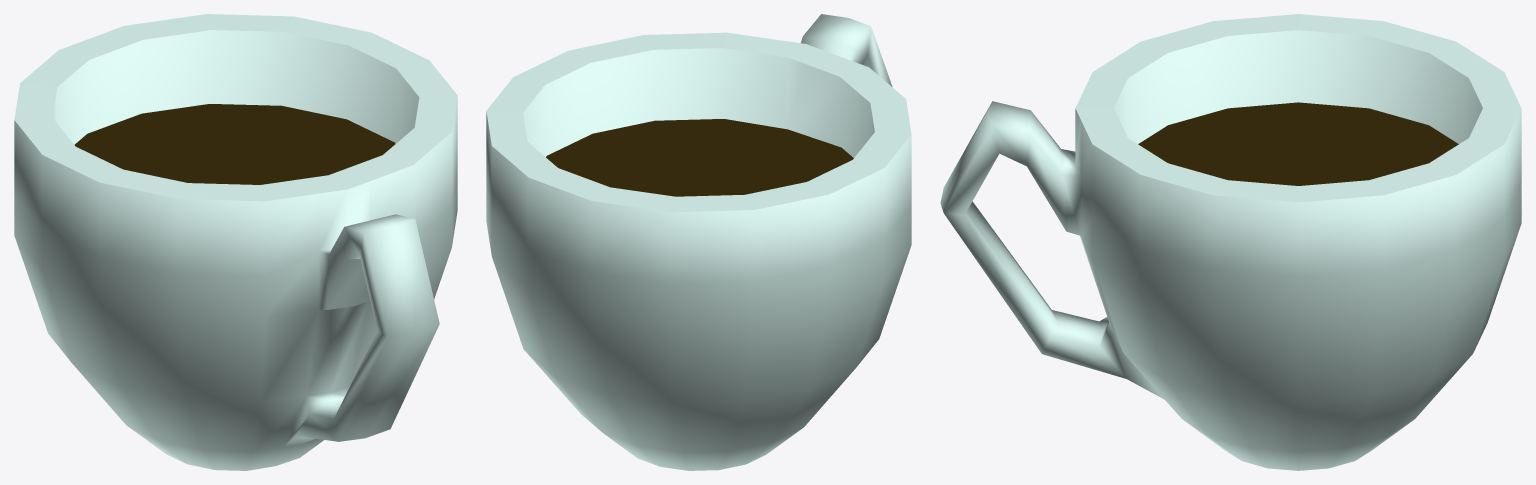
Rendered from cafe.fbx.
3 views of the same model, side by side, from view 1: azimuth 30°, elevation 25°; view 2: azimuth 150°, elevation 25°; view 3: azimuth 270°, elevation 25° (orthographic). The views are drawn at different scales.
Visible parts, largest first — view 1: xicaraCafe; view 2: xicaraCafe; view 3: xicaraCafe.
Part boxes in pixels (<box>): xicaraCafe: <box>14,14,457,470</box>; xicaraCafe: <box>486,14,911,470</box>; xicaraCafe: <box>940,14,1521,470</box>.
Bounding box in the file's own units: 235 × 192 × 307.
Materials: 1 (1 with a texture image).
